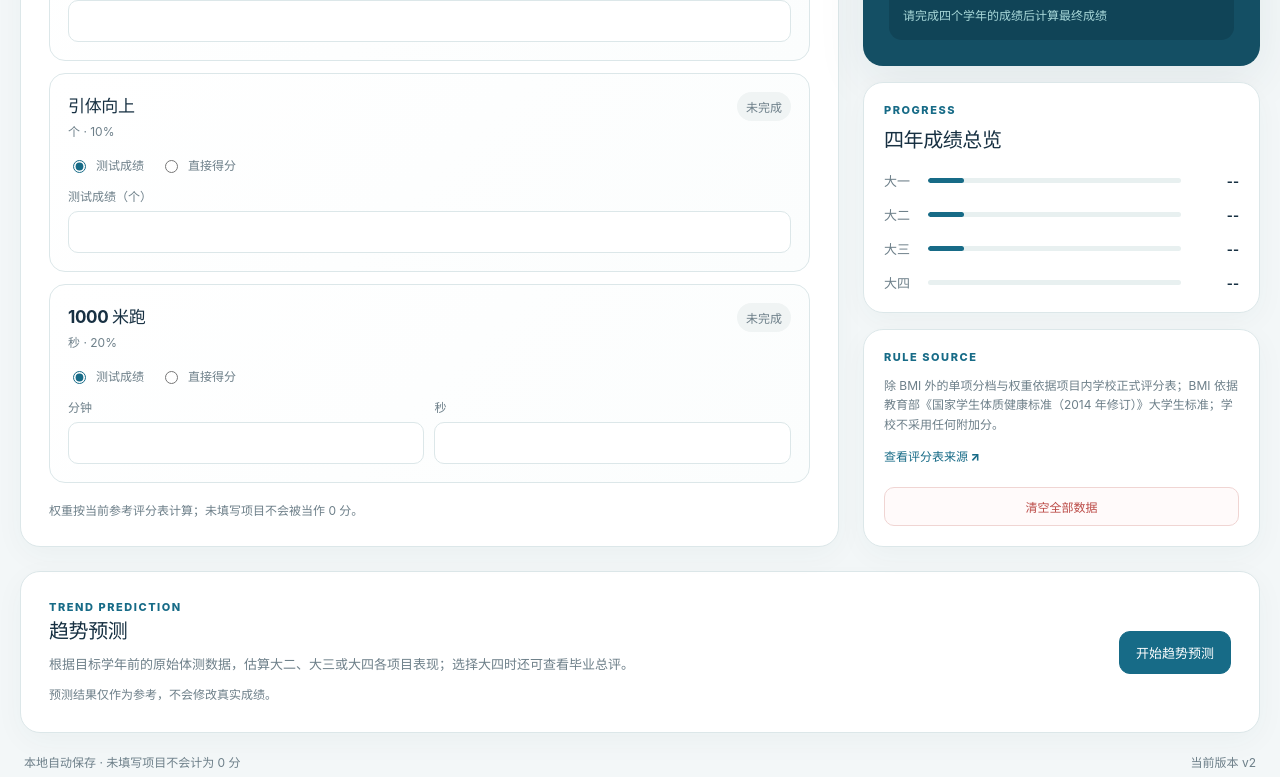
Test: fitness calculator interface › disables a prediction when a year switches to direct mode, even if stale raw remains
This screenshot has width=1280, height=777.
(page scrolled)
Click the button "开始趋势预测".
click(1175, 652)  # box x1=1119 y1=631 x2=1231 y2=674
(page scrolled)
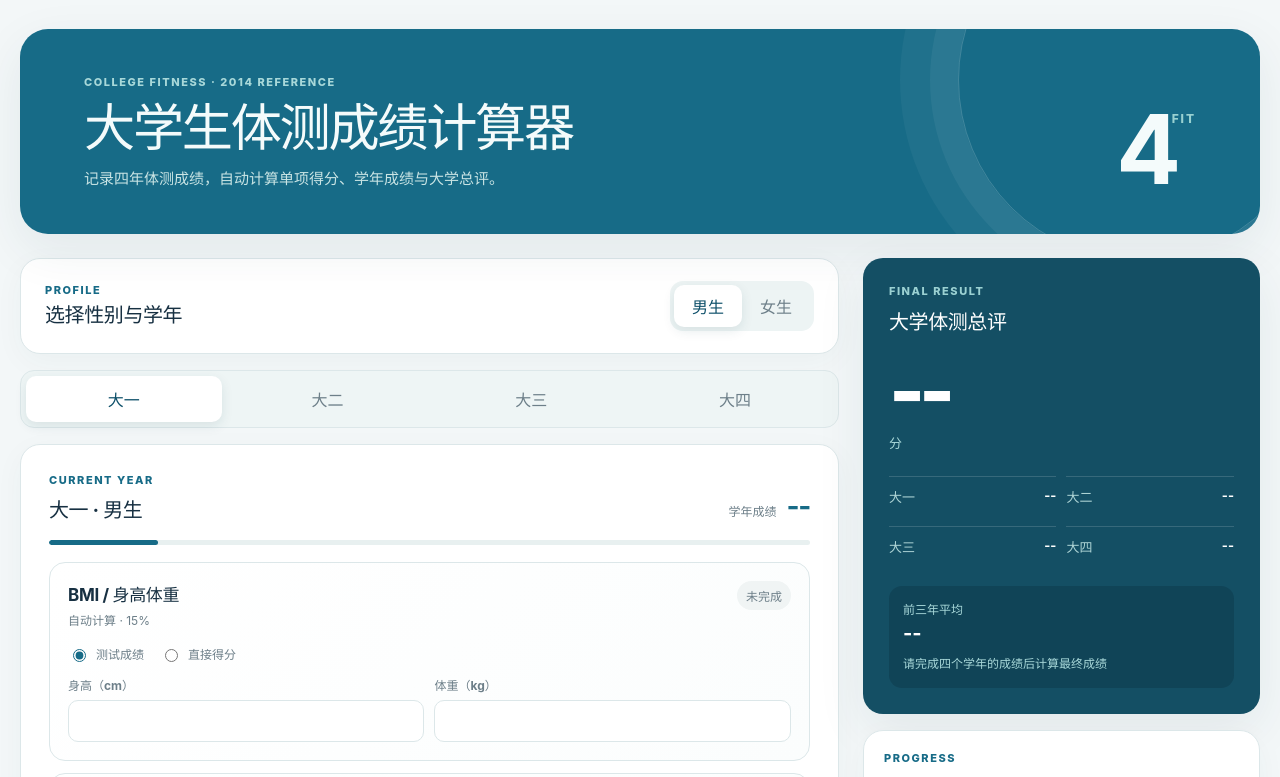
Click the tab "大二".
click(328, 399)  # box x1=230 y1=376 x2=425 y2=422
(page scrolled)
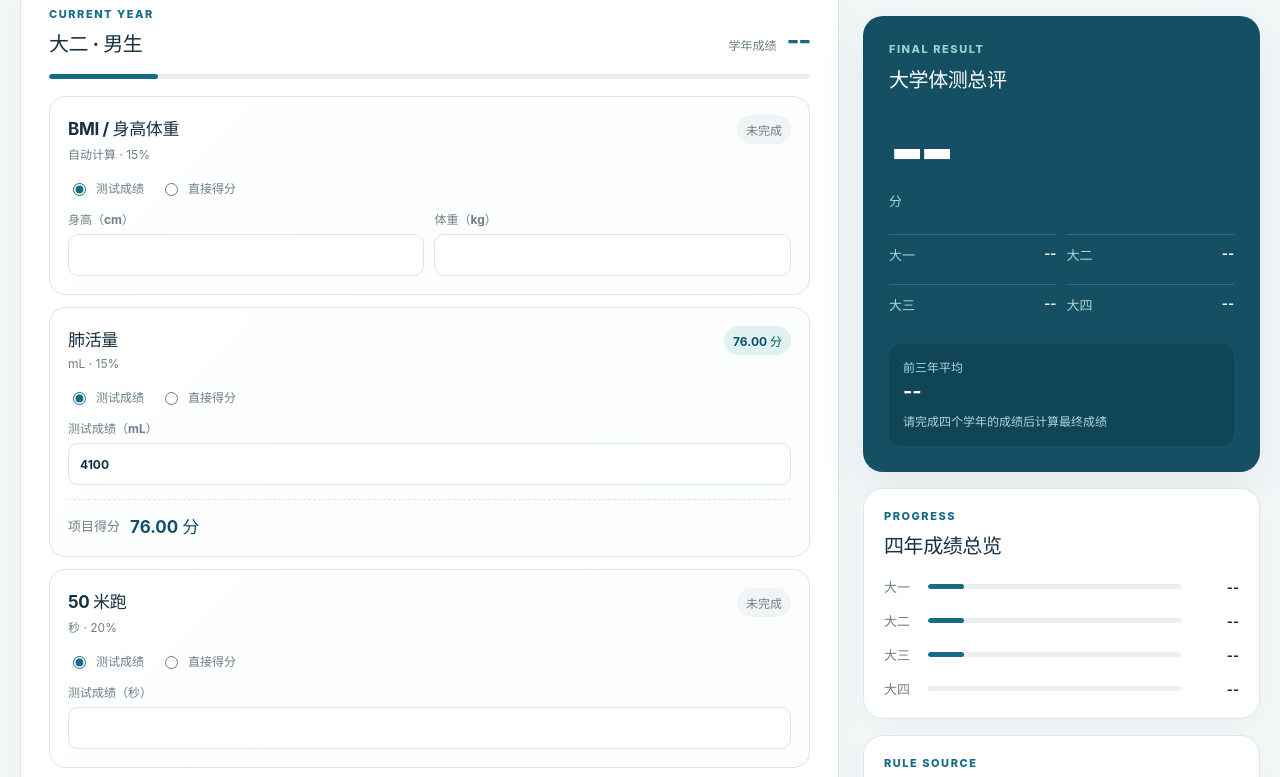
Click the 2nd radio button labelled "直接得分".
click(172, 398)  # box x1=165 y1=392 x2=178 y2=404
(page scrolled)
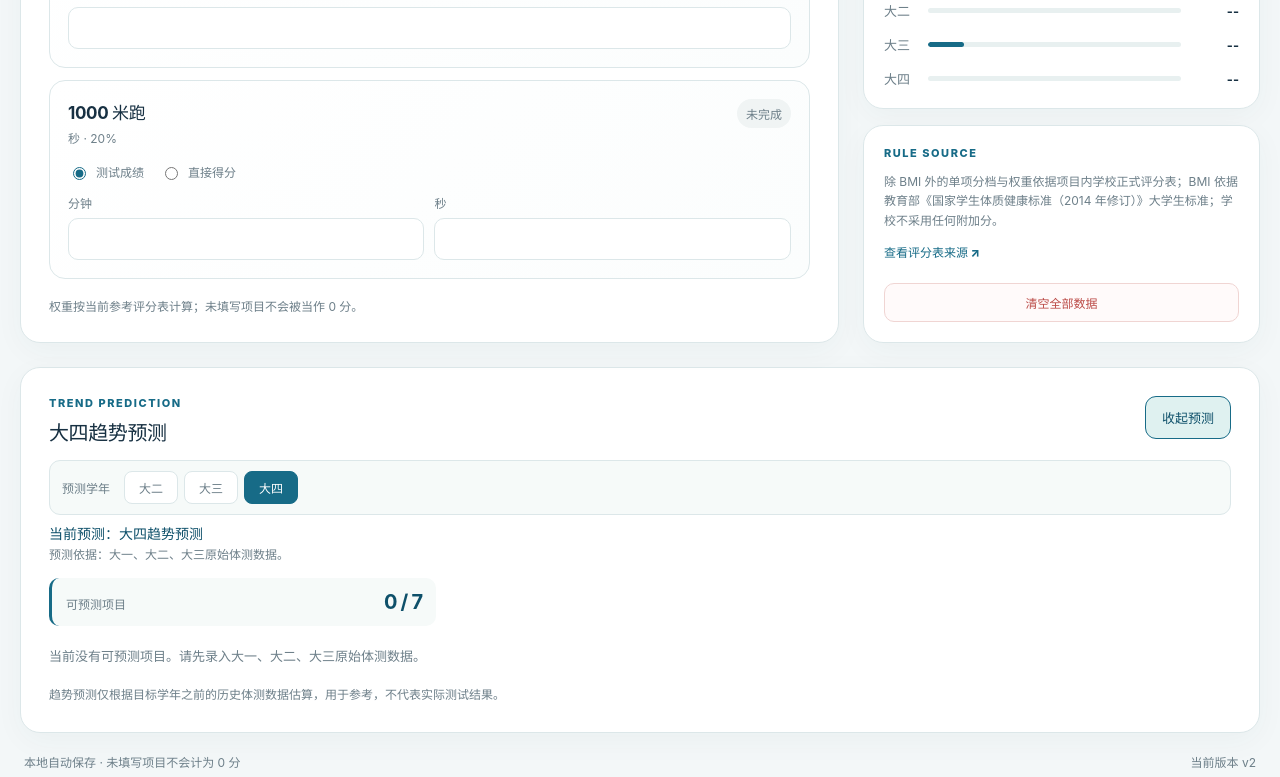
Now the text "当前没有可预测项目。请先录入大一、大二、大三原始体测数据。" is shown, box x1=49 y1=648 x2=426 y2=664
